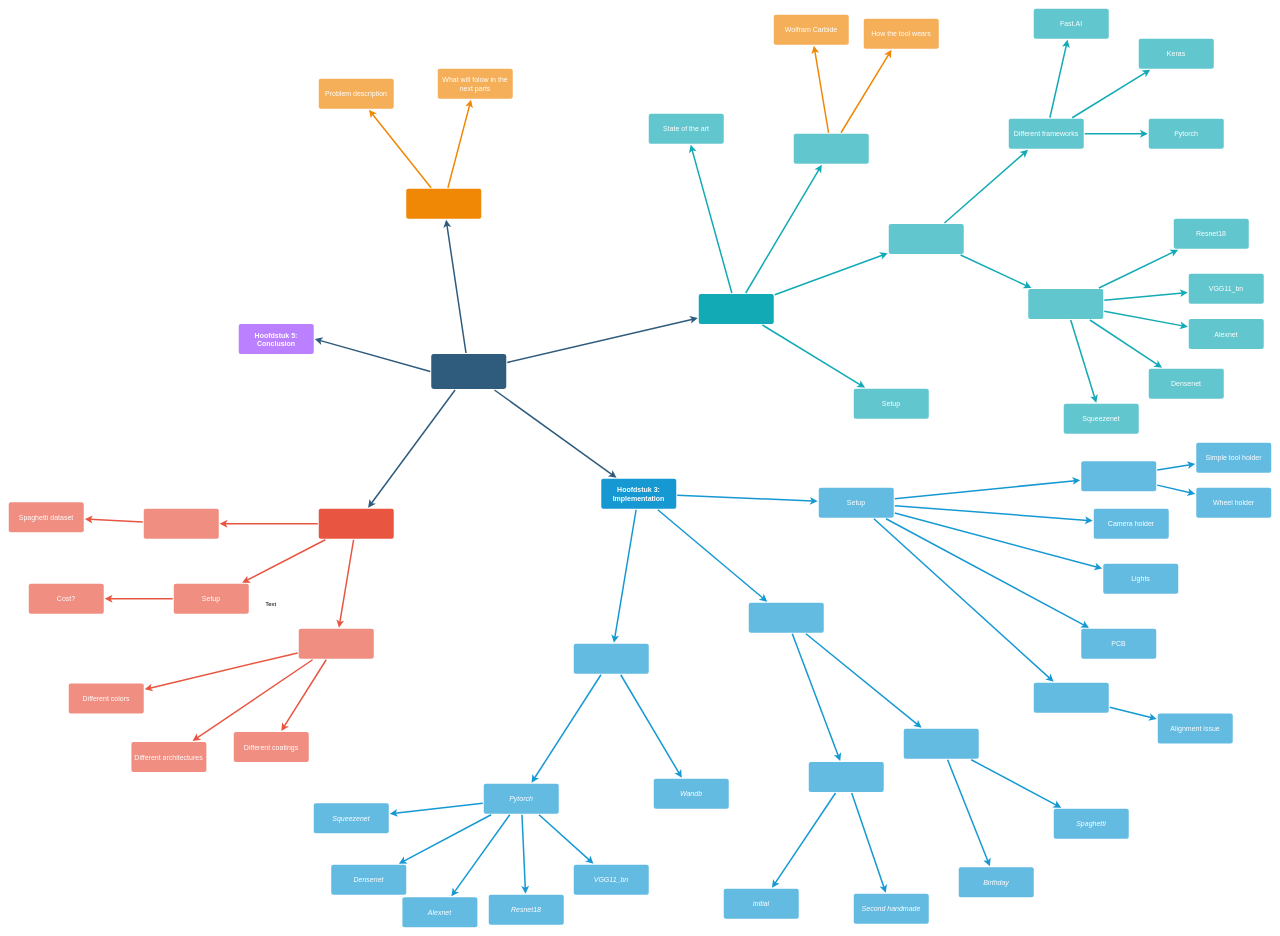
Some shapes in this 1280 by 936 pixel diagram are drawn without their labels. The box of each missing label's shape, as (x1, y1, x2, y2) in pixels:
Algorithm: (298, 628, 374, 658)
Automated: (904, 728, 978, 758)
Dataset: (144, 508, 218, 538)
Datasets: (748, 602, 824, 632)
Define an algorithm to check the setup: (574, 644, 648, 674)
Final setup: (1034, 682, 1108, 712)
Handmade: (808, 762, 884, 792)
Hoofdstuk 1: Introduction: (406, 188, 481, 218)
Hoofdstuk 2: Literature review: (698, 294, 774, 324)
Hoofdstuk 4: Results: (318, 508, 394, 538)
Light reflections: (794, 134, 868, 164)
Tool holder: (1081, 461, 1156, 491)
Tussentijds verslag: (431, 354, 506, 389)
Used networks: (1028, 289, 1103, 319)
Vision Algorithm: (888, 224, 964, 254)
